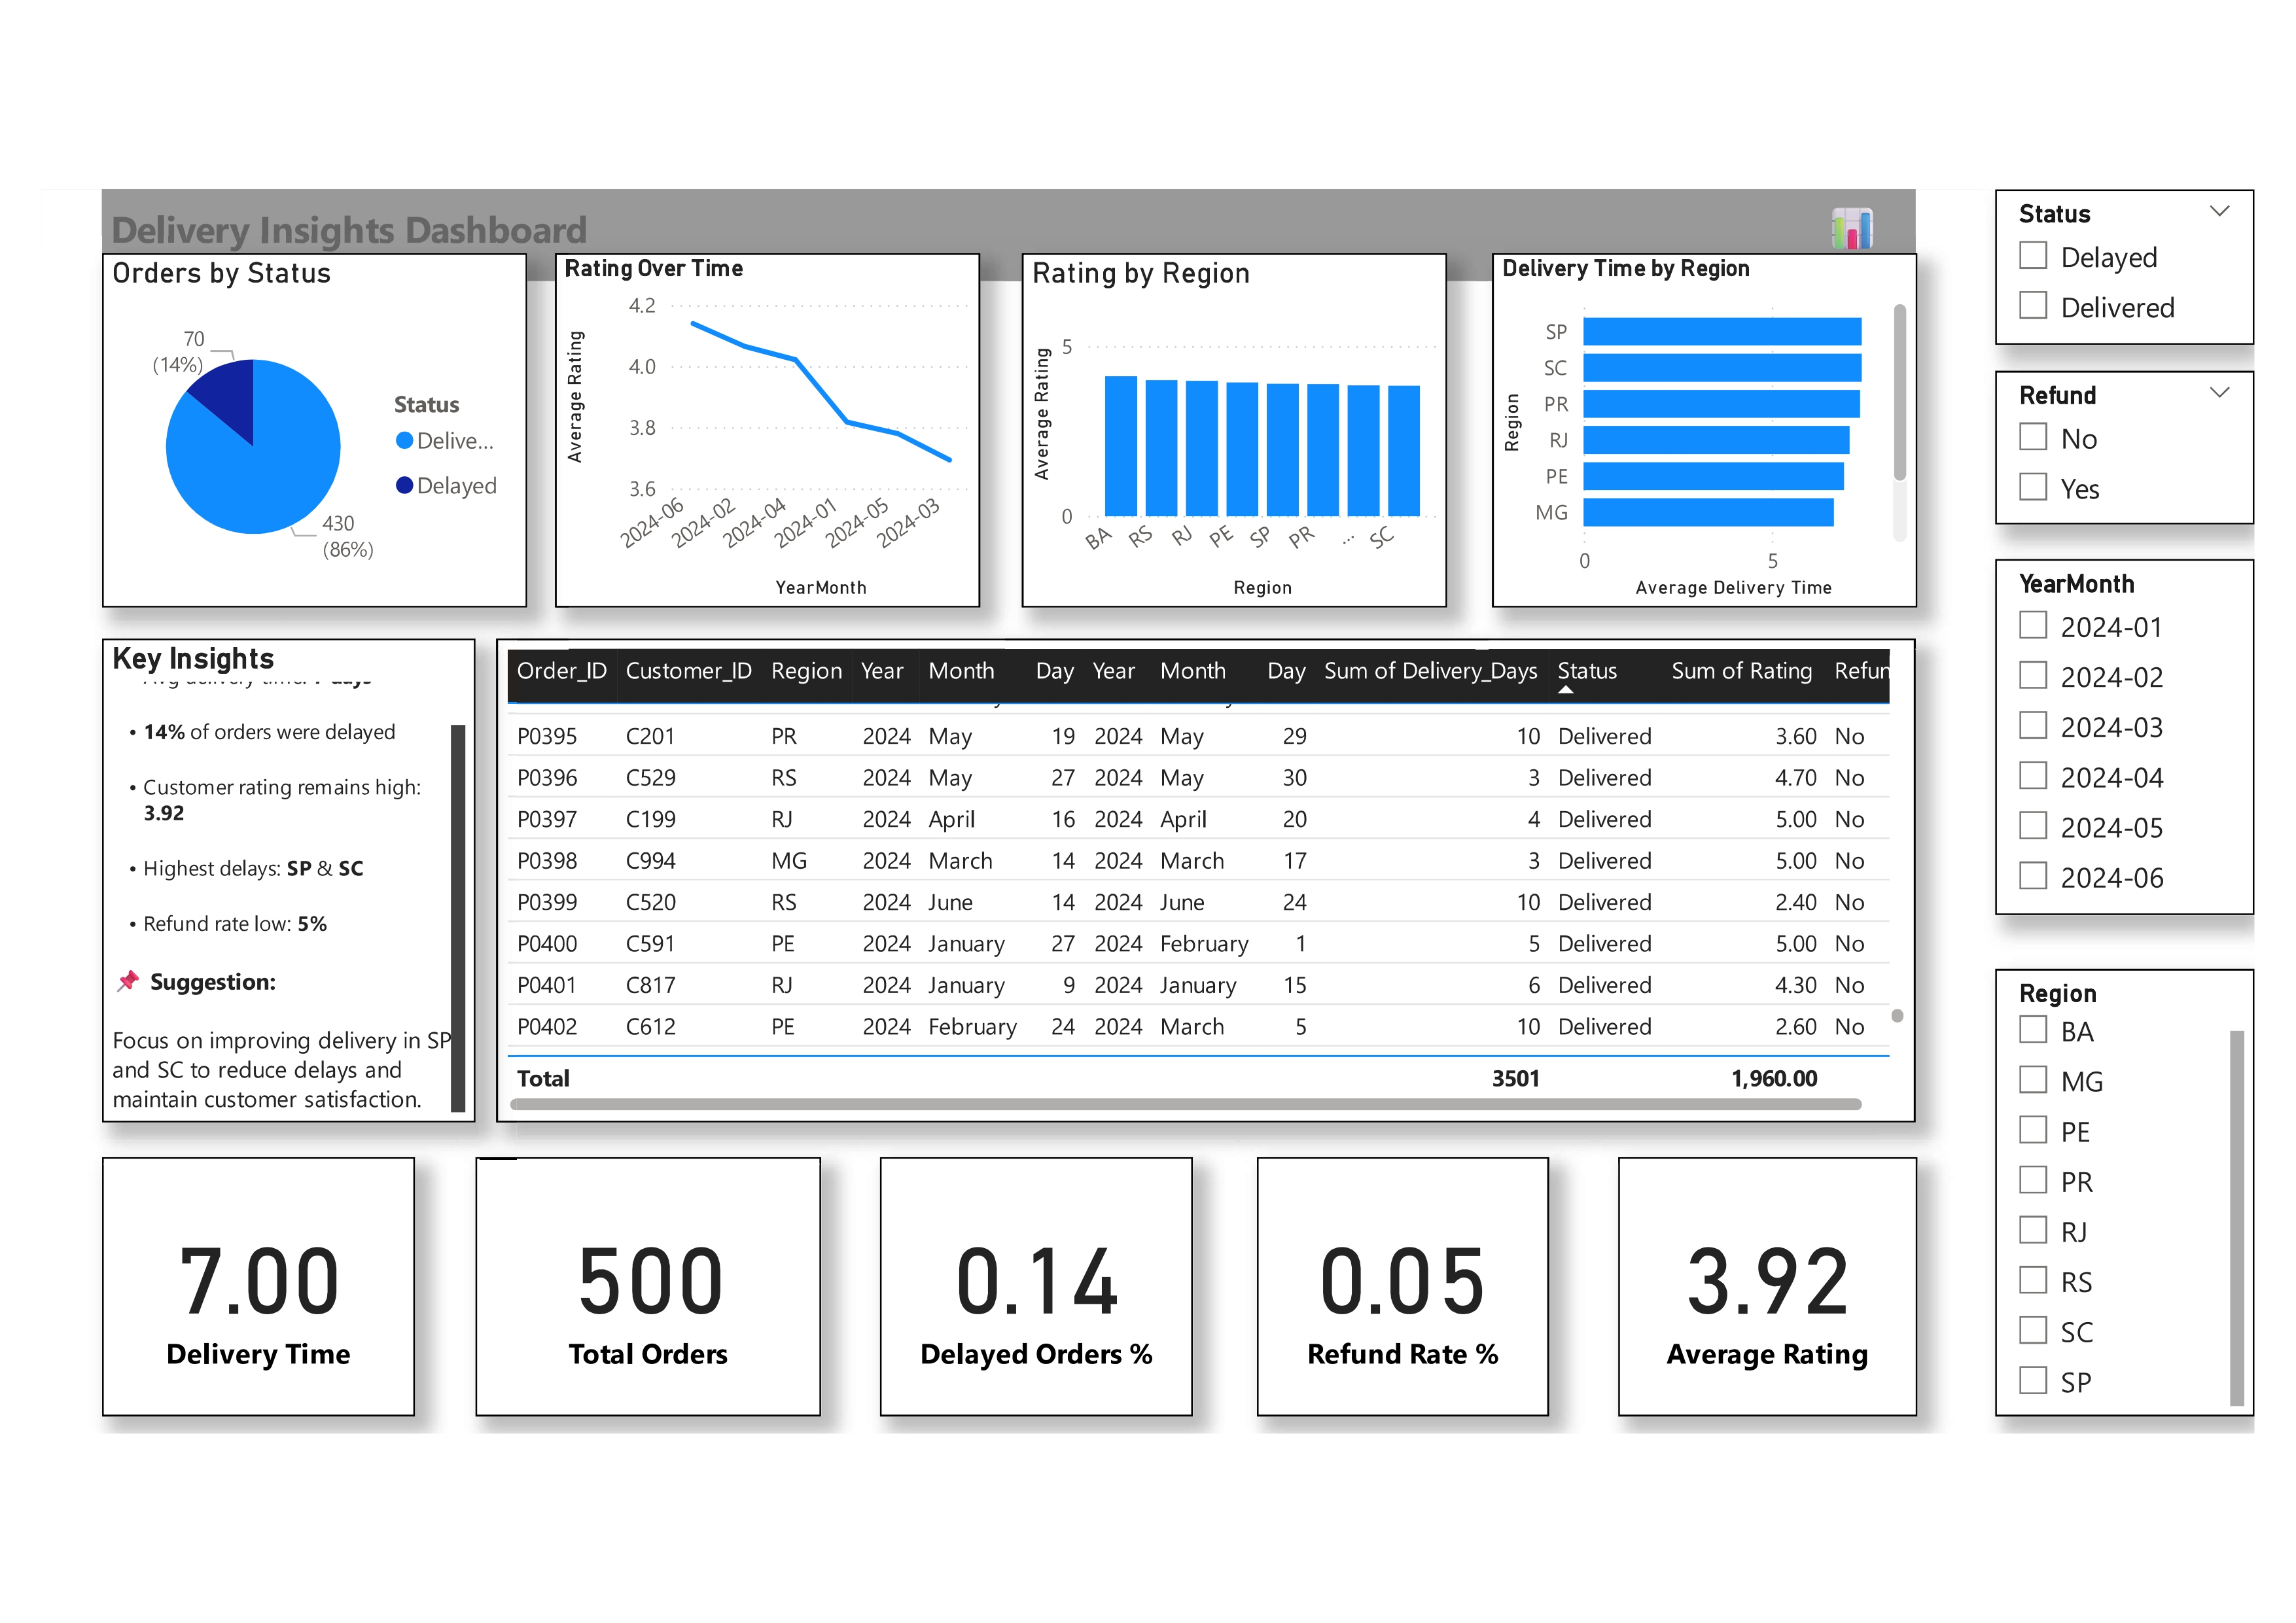

The page's visual inventory and layout, read from the dashboard file:
{"tool":"powerbi","page":{"name":"Page 1","canvas":[1280,720],"ordinal":0},"visuals":[{"type":"textbox","box":[35.4,0,1048.8,53.5],"z":500},{"type":"card","fields":{"Values":["Marketplace_Logistics_Analysis_EN.Total Orders"]},"box":[250.9,560.2,200.4,149.8],"z":1000},{"type":"lineChart","title":"Rating Over Time","fields":{"Category":["Marketplace_Logistics_Analysis_EN.YearMonth"],"Y":["Marketplace_Logistics_Analysis_EN.Average Rating"]},"box":[296.7,37,246.1,205.2],"z":1500},{"type":"card","fields":{"Values":["Marketplace_Logistics_Analysis_EN.Average Delivery Time"]},"box":[35,560.2,180.9,149.8],"z":2000},{"type":"card","fields":{"Values":["Marketplace_Logistics_Analysis_EN.Delayed Orders %"]},"box":[485.3,560.2,180.9,149.8],"z":3000},{"type":"card","fields":{"Values":["Marketplace_Logistics_Analysis_EN.Refund Rate %"]},"box":[703.2,560.2,169.2,149.8],"z":4000},{"type":"card","fields":{"Values":["Marketplace_Logistics_Analysis_EN.Average Rating"]},"box":[912.3,560.2,173.1,149.8],"z":5000},{"type":"tableEx","fields":{"Values":["Marketplace_Logistics_Analysis_EN.Order_ID","Marketplace_Logistics_Analysis_EN.Customer_ID","Marketplace_Logistics_Analysis_EN.Region","Marketplace_Logistics_Analysis_EN.Order_Date.Variation.Date Hierarchy.Year","Marketplace_Logistics_Analysis_EN.Order_Date.Variation.Date Hierarchy.Month","Marketplace_Logistics_Analysis_EN.Order_Date.Variation.Date Hierarchy.Day","Marketplace_Logistics_Analysis_EN.Delivery_Date.Variation.Date Hierarchy.Year","Marketplace_Logistics_Analysis_EN.Delivery_Date.Variation.Date Hierarchy.Month","Marketplace_Logistics_Analysis_EN.Delivery_Date.Variation.Date Hierarchy.Day","Sum(Marketplace_Logistics_Analysis_EN.Delivery_Days)","Marketplace_Logistics_Analysis_EN.Status","Sum(Marketplace_Logistics_Analysis_EN.Rating)"]},"box":[262.6,259.7,821.9,280.1],"z":8000},{"type":"columnChart","title":"Rating by Region","fields":{"Category":["Marketplace_Logistics_Analysis_EN.Region"],"Y":["Marketplace_Logistics_Analysis_EN.Average Rating"]},"box":[567.1,37,246.1,205.2],"z":8500},{"type":"pieChart","title":"Orders by Status","fields":{"Category":["Marketplace_Logistics_Analysis_EN.Status"],"Y":["CountNonNull(Marketplace_Logistics_Analysis_EN.Order_ID)"]},"box":[35,37,246.1,205.2],"z":8750},{"type":"slicer","fields":{"Values":["Marketplace_Logistics_Analysis_EN.Region"]},"box":[1130.2,451.3,149.8,258.7],"z":9000},{"type":"slicer","fields":{"Values":["Marketplace_Logistics_Analysis_EN.Status"]},"box":[1130.2,0,149.8,90.5],"z":10000},{"type":"slicer","fields":{"Values":["Marketplace_Logistics_Analysis_EN.Refund"]},"box":[1130.2,105,149.8,88.5],"z":11000},{"type":"slicer","fields":{"Values":["Marketplace_Logistics_Analysis_EN.YearMonth"]},"box":[1130.2,214,149.8,206.2],"z":12000},{"type":"textbox","title":"Key Insights","box":[35,259.7,215.9,280.1],"z":15000},{"type":"clusteredBarChart","title":"Delivery Time by Region","fields":{"Category":["Marketplace_Logistics_Analysis_EN.Region"],"Y":["Marketplace_Logistics_Analysis_EN.Average Delivery Time"]},"box":[839.4,37,246.1,205.2],"z":15500}]}

Visuals, with their boxes in screenshot pixels (x1, y1, x2, y2):
textbox: 115:185:1903:277
card - Marketplace_Logistics_Analysis_EN.Total Orders: 482:1141:824:1397
"Rating Over Time" lineChart: 560:249:980:599
card - Marketplace_Logistics_Analysis_EN.Average Delivery Time: 114:1141:422:1397
card - Marketplace_Logistics_Analysis_EN.Delayed Orders %: 882:1141:1190:1397
card - Marketplace_Logistics_Analysis_EN.Refund Rate %: 1254:1141:1542:1397
card - Marketplace_Logistics_Analysis_EN.Average Rating: 1610:1141:1906:1397
tableEx - Marketplace_Logistics_Analysis_EN.Order_ID x Marketplace_Logistics_Analysis_EN.Customer_ID: 502:628:1904:1106
"Rating by Region" columnChart: 1021:249:1441:599
"Orders by Status" pieChart: 114:249:533:599
slicer - Marketplace_Logistics_Analysis_EN.Region: 1982:955:2238:1397
slicer - Marketplace_Logistics_Analysis_EN.Status: 1982:185:2238:340
slicer - Marketplace_Logistics_Analysis_EN.Refund: 1982:364:2238:515
slicer - Marketplace_Logistics_Analysis_EN.YearMonth: 1982:550:2238:902
"Key Insights" textbox: 114:628:482:1106
"Delivery Time by Region" clusteredBarChart: 1486:249:1906:599
